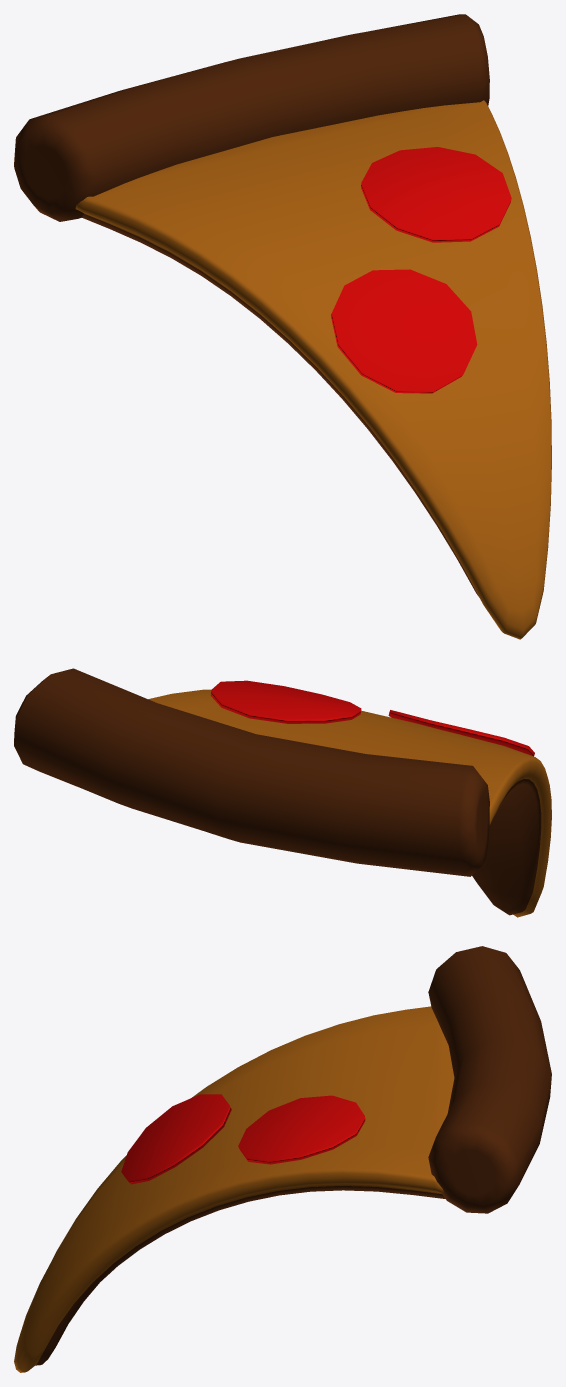
The model's file is pizza.obj.
3 renders of one model, top to bottom at view 1: azimuth 30°, elevation 25°; view 2: azimuth 150°, elevation 25°; view 3: azimuth 270°, elevation 25°, orthographic. The views are drawn at different scales.
Visible parts, largest first — view 1: pizza; view 2: pizza; view 3: pizza.
Boxes of the visible parts, x1=… form: pizza: x1=14, y1=14, x2=551, y2=639; pizza: x1=14, y1=668, x2=551, y2=917; pizza: x1=14, y1=946, x2=551, y2=1372.
Size of the model in its own units: 20.62 by 16.36 by 23.63.
